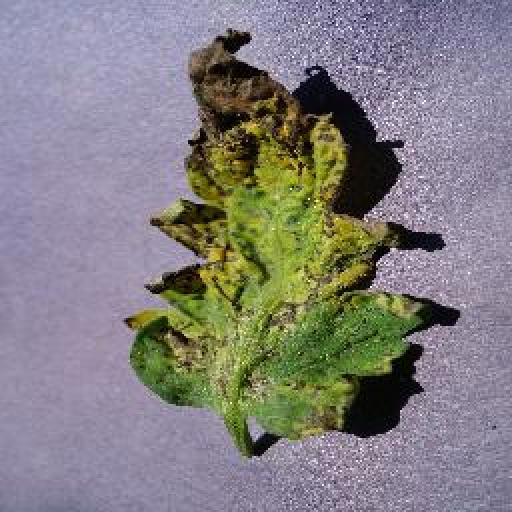disease_tomato: (124, 26, 426, 436)
